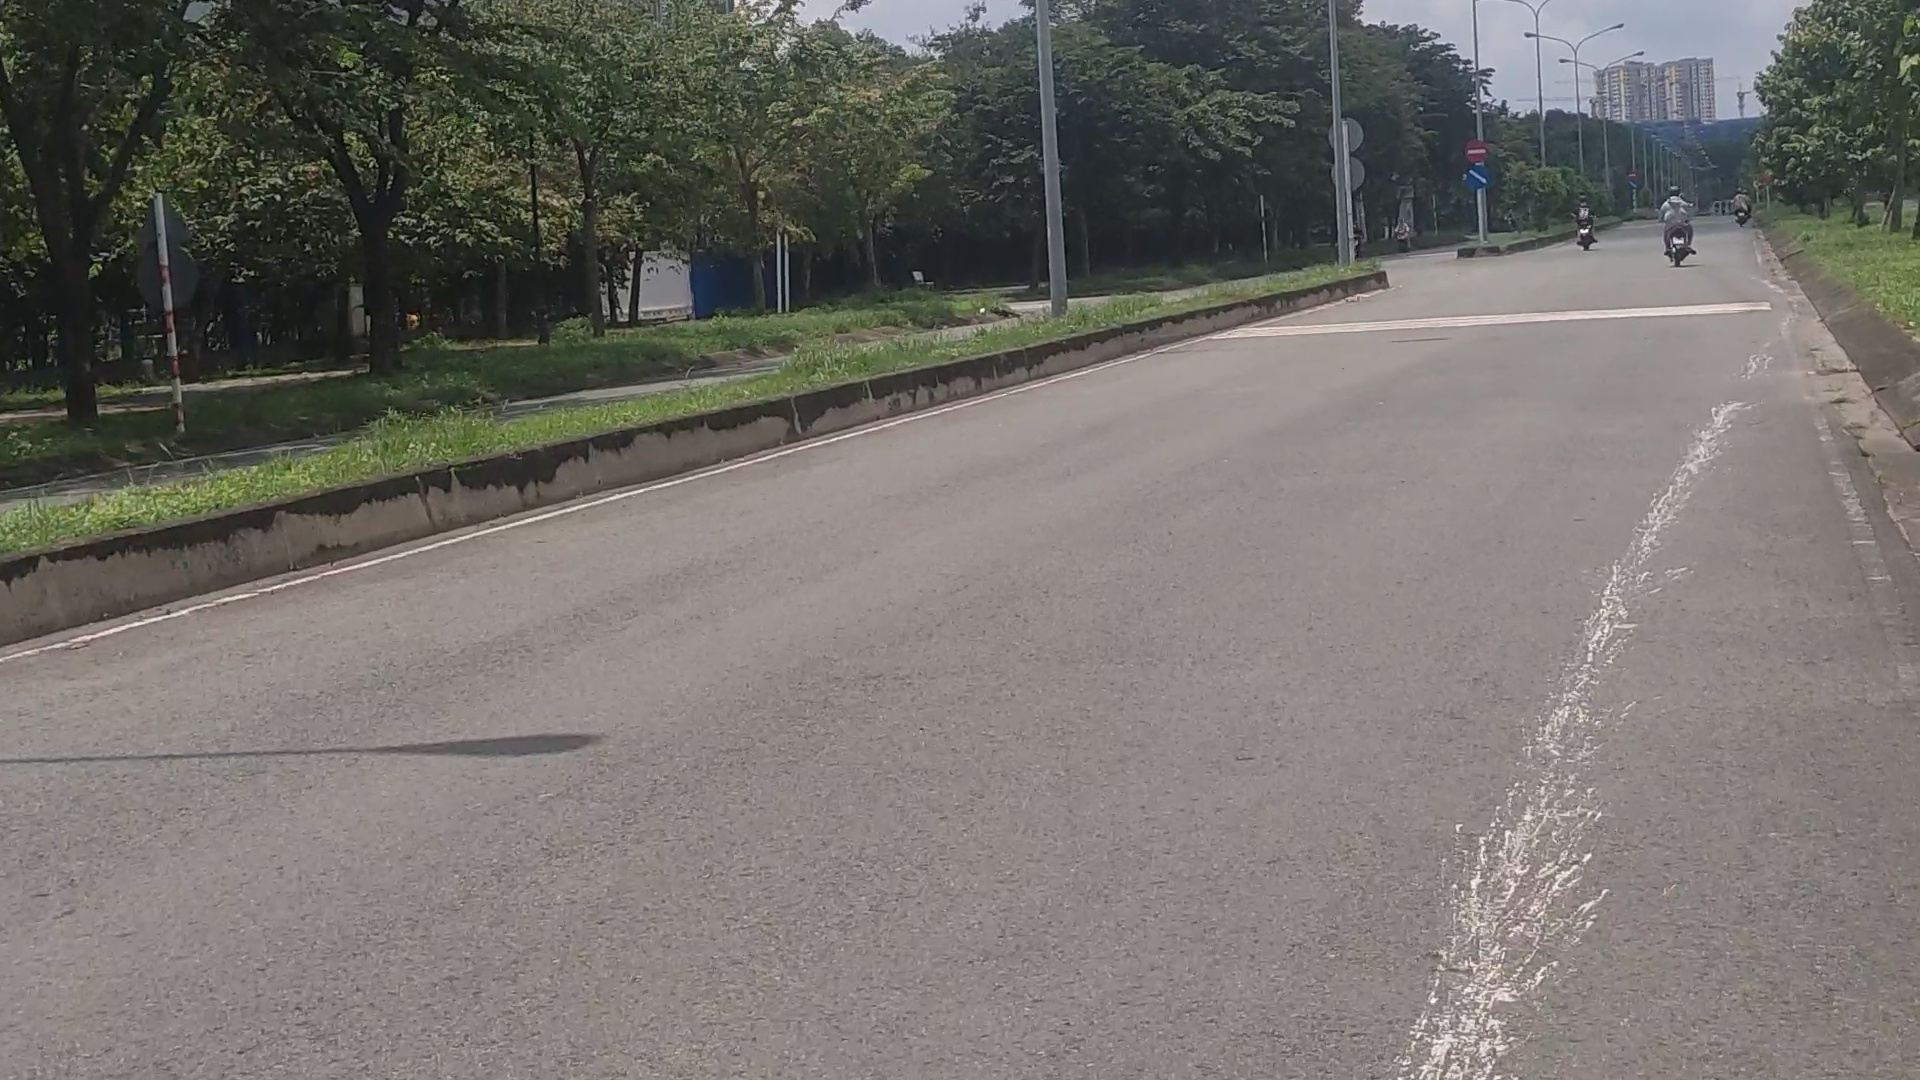P.102: (1464, 139, 1490, 162)
R.302a: (1467, 166, 1490, 190)
